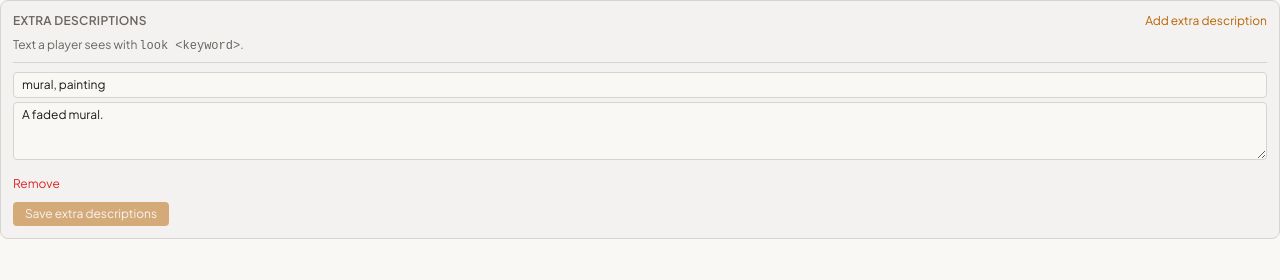
RoomExtraDescriptionsEditor › shows a refused save in words
Replace the text in the text box named "Extra description 1 text" with "New text" at (640, 131), box [13,102,1267,160]
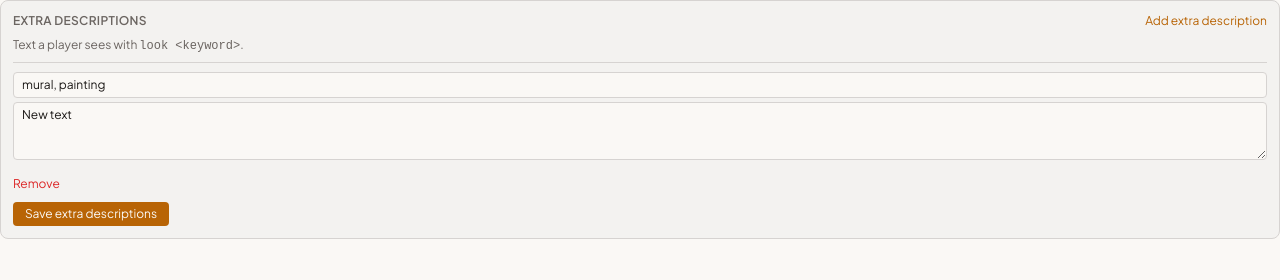
Click the button "Save extra descriptions" at (91, 214), box [13,202,169,226]
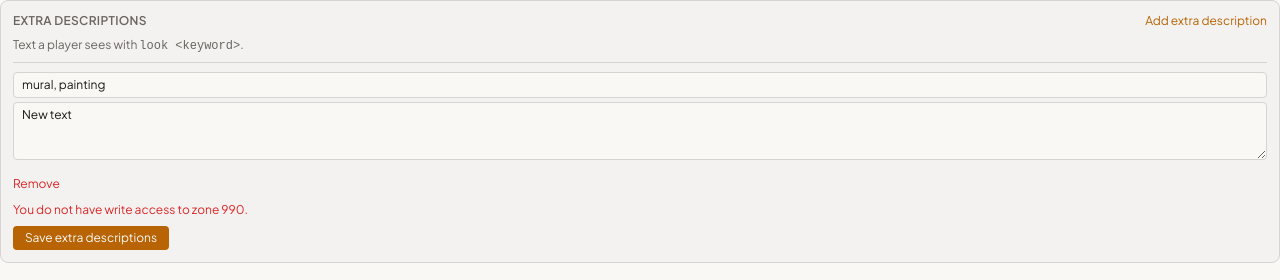
Expected: the message reads "You do not have write access to zone 990.", [13,202,248,217]
